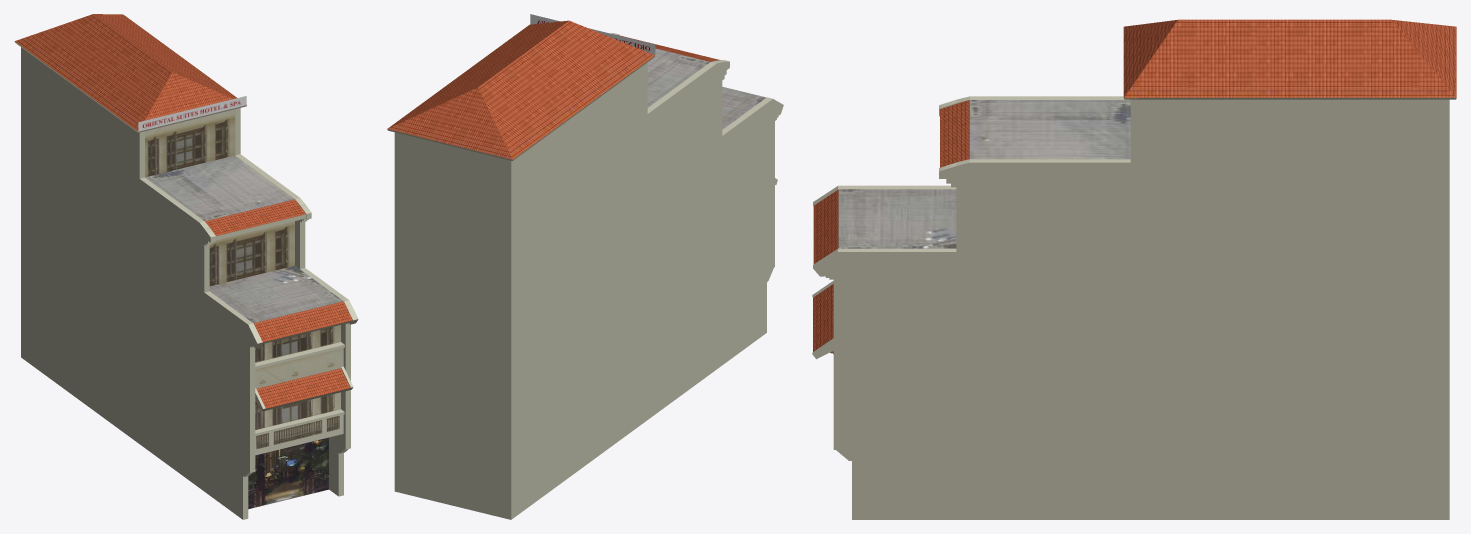
3 views of the same model, side by side, from view 1: azimuth 30°, elevation 25°; view 2: azimuth 150°, elevation 25°; view 3: azimuth 270°, elevation 25° (orthographic). The views are drawn at different scales.
Parts seen in each view (by area): view 1: HN074___Oriental_Suites_Hotel___Spa; view 2: HN074___Oriental_Suites_Hotel___Spa; view 3: HN074___Oriental_Suites_Hotel___Spa.
Boxes of the visible parts, x1,y1,x2,y2 form: HN074___Oriental_Suites_Hotel___Spa: [14, 14, 358, 519]; HN074___Oriental_Suites_Hotel___Spa: [387, 14, 783, 519]; HN074___Oriental_Suites_Hotel___Spa: [812, 19, 1456, 519].
Size of the model in its own units: 6.49 by 19.7 by 24.64.
Materials: 1 (1 with a texture image).
